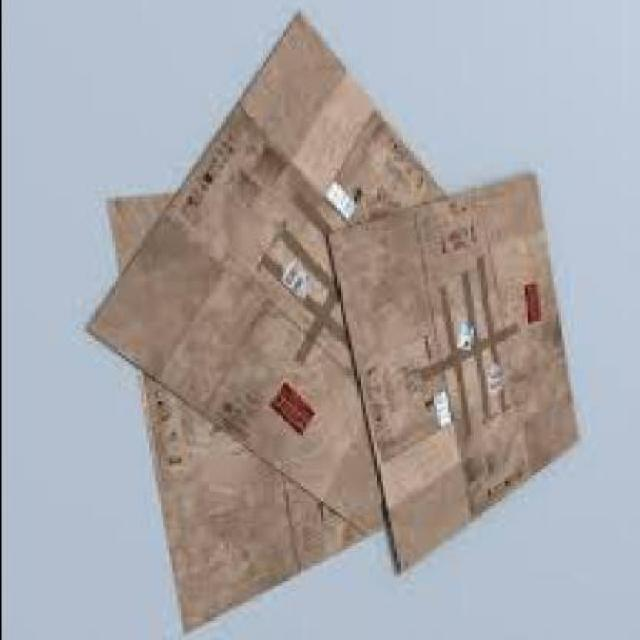CARDBOARD: (94, 20, 435, 537), (105, 197, 361, 637), (328, 177, 583, 583)
